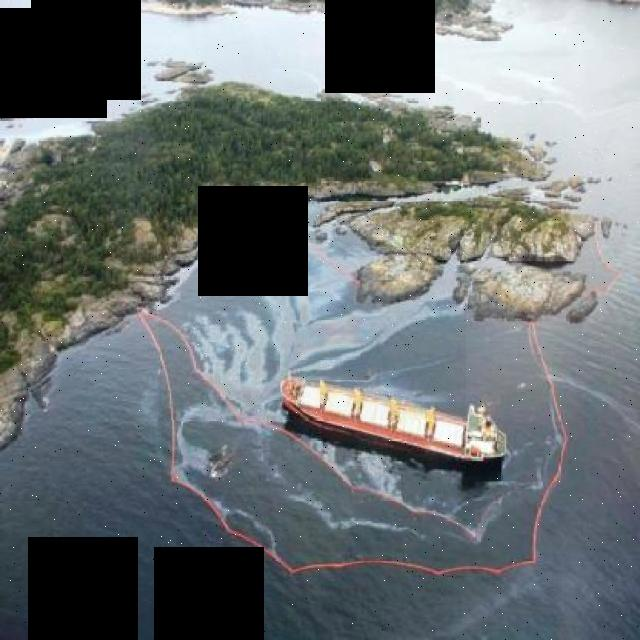oil spill: (160, 203, 466, 420)
